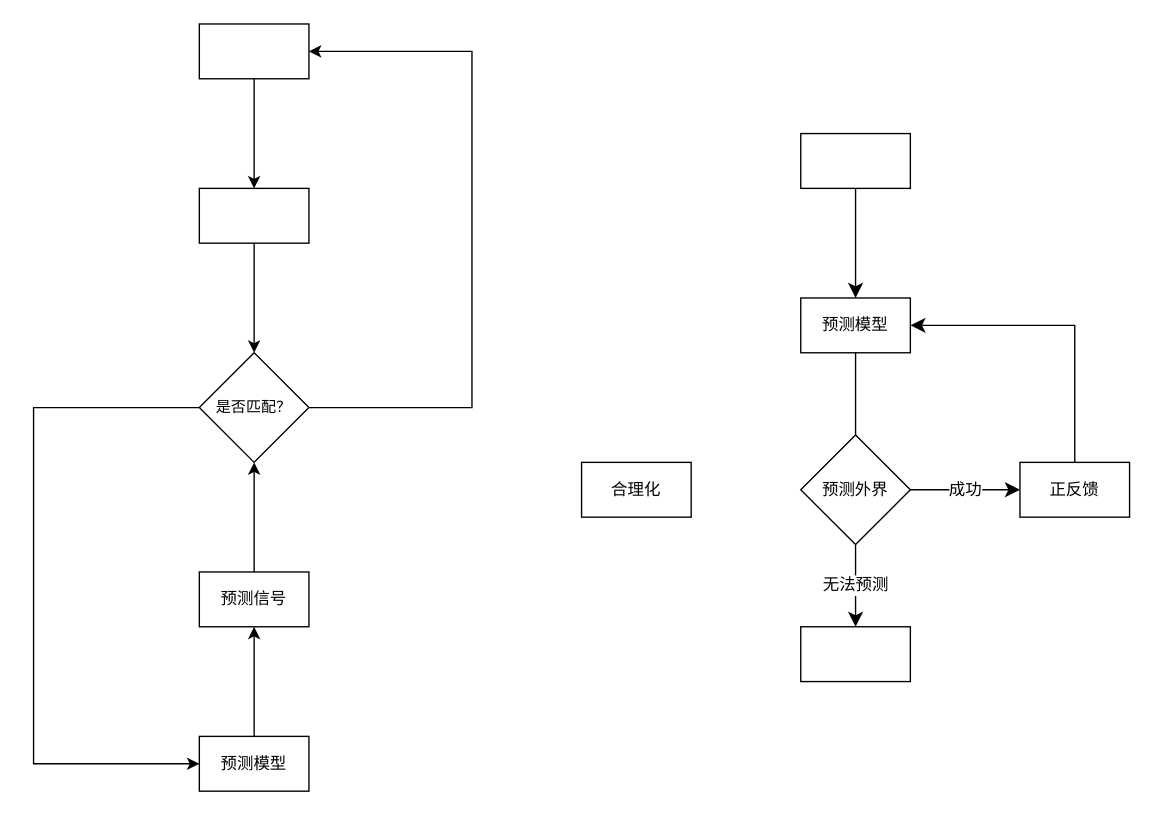
The diagram is 1154 pixels wide and 815 high, and some of its shapes have lost their labels. Each missing label, with the centre of its shape:
"外部信息" belongs at point (253, 51).
"大脑" belongs at point (854, 160).
"焦虑" belongs at point (854, 653).
"电信号" belongs at point (253, 215).
